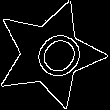O_SW: (16, 21, 84, 88)
